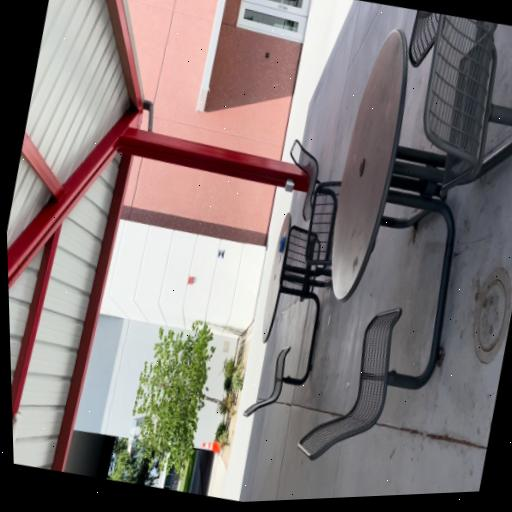target9: (217, 247, 225, 259)
